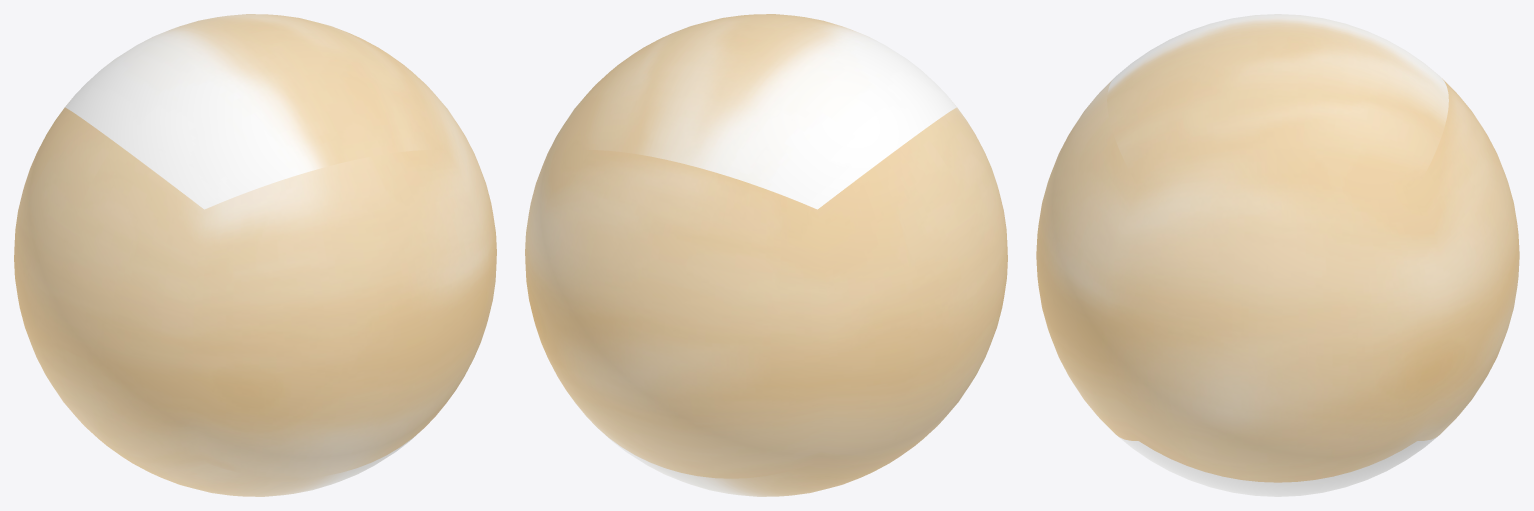
Rendered from Sun.gltf.
The picture shows the model from 3 angles, left to right: view 1: azimuth 30°, elevation 25°; view 2: azimuth 150°, elevation 25°; view 3: azimuth 270°, elevation 25°; orthographic projection.
Parts seen in each view (by area): view 1: Cube.001; view 2: Cube.001; view 3: Cube.001.
Part boxes in pixels (left/top/right/bottom): Cube.001: left=14, top=14, right=496, bottom=496; Cube.001: left=525, top=14, right=1007, bottom=496; Cube.001: left=1036, top=14, right=1519, bottom=496.
Size of the model in its own units: 1000 by 1000 by 1000.
